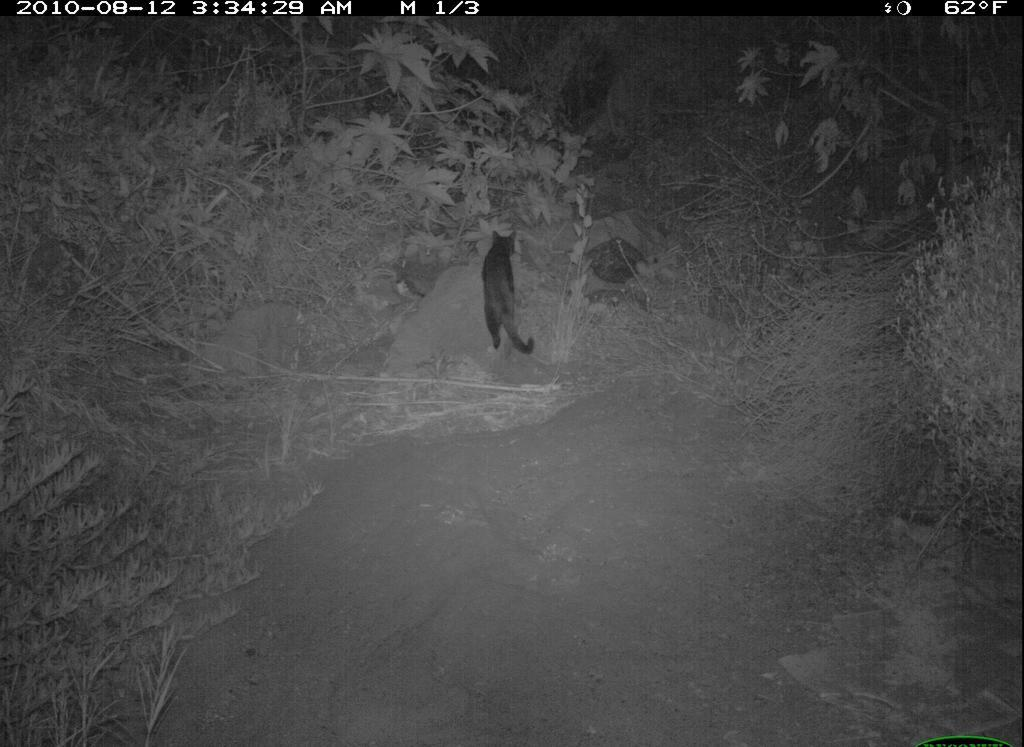cat: (473, 217, 550, 360)
